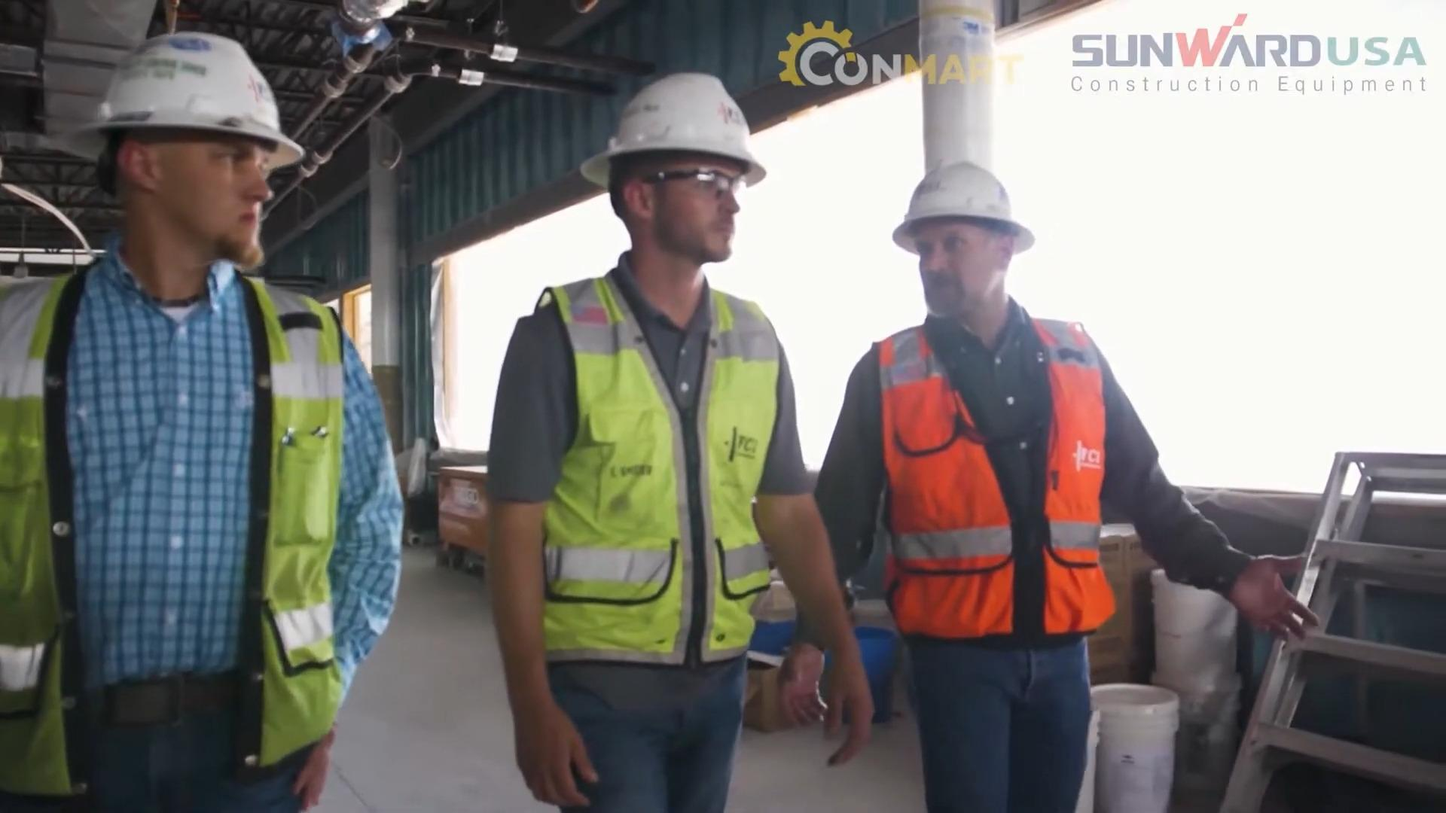Helmet: (92, 41, 313, 164), (593, 94, 770, 188), (908, 156, 1030, 233)
Person: (0, 19, 401, 813), (806, 141, 1169, 811), (478, 72, 793, 813)
Safety Vest: (19, 331, 367, 730), (525, 263, 800, 640), (874, 343, 1143, 651)
bare-arms: (785, 640, 876, 755), (508, 708, 606, 809), (1231, 544, 1324, 649)
